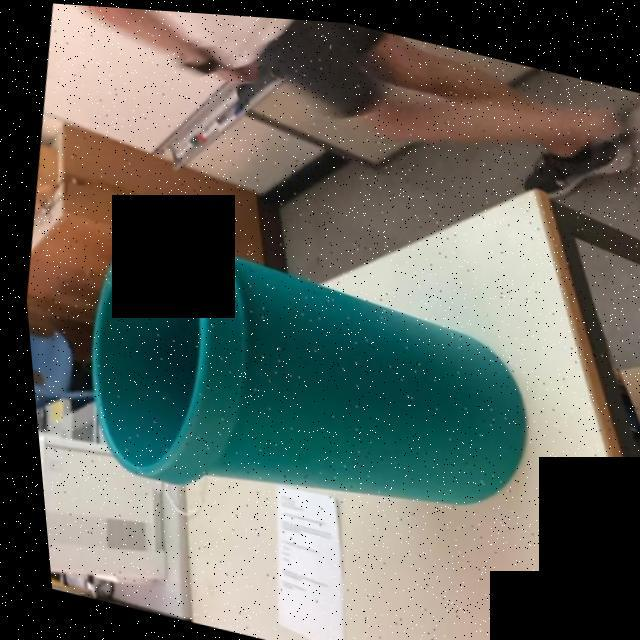bin: (26, 192, 558, 590)
